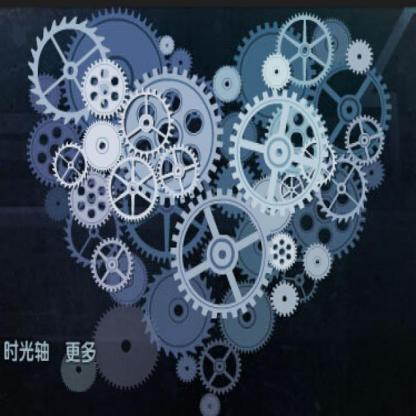FOD: (90, 236, 134, 294), (344, 36, 374, 76)
